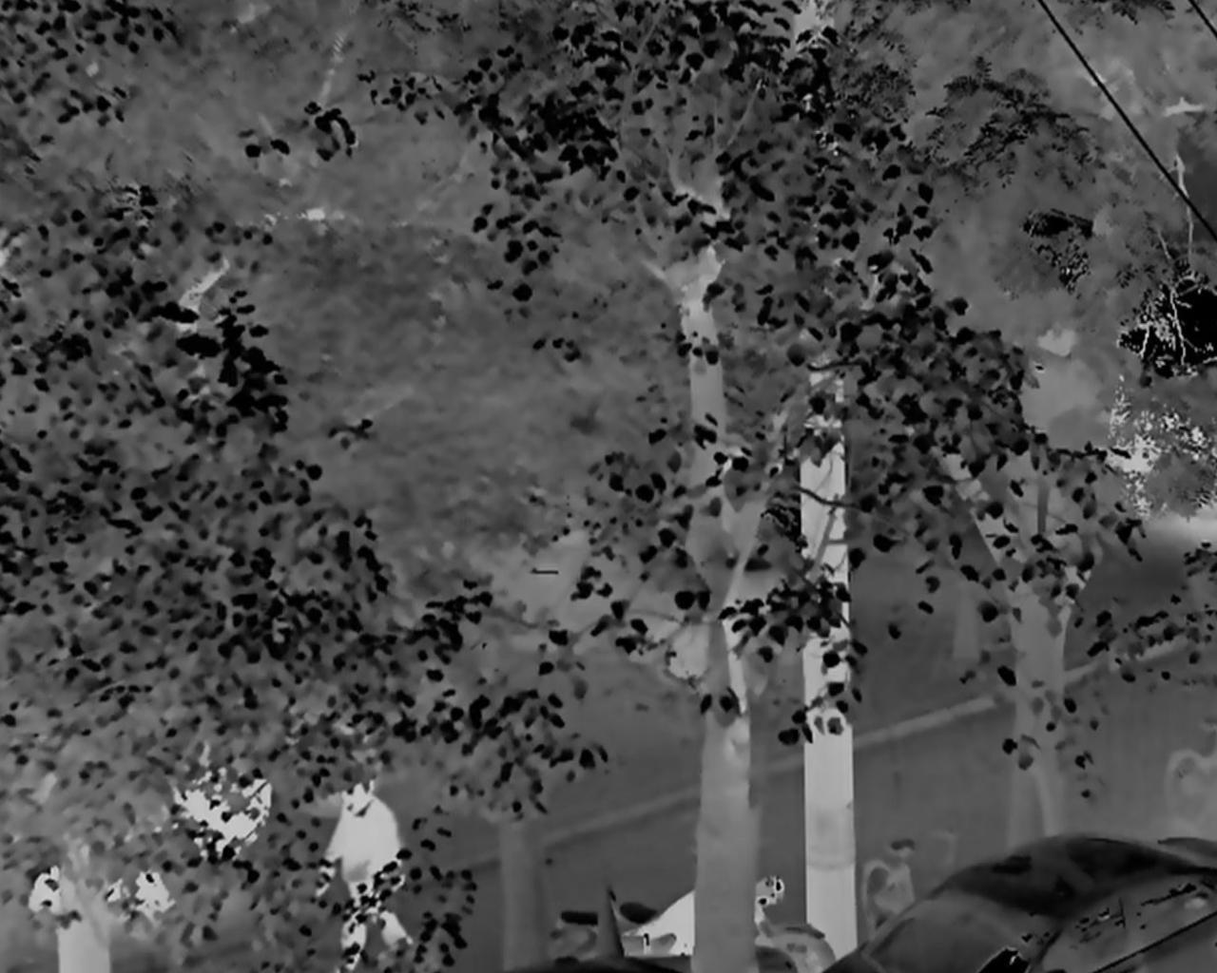person: (316, 773, 415, 973)
